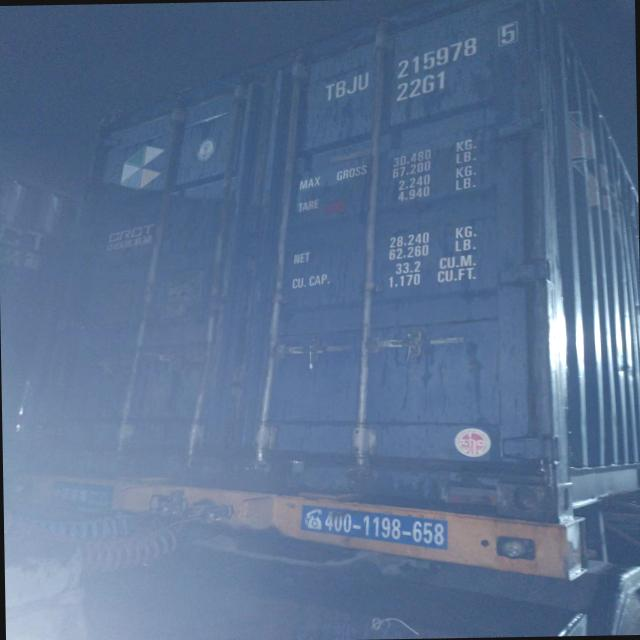seal: (300, 335, 326, 372)
